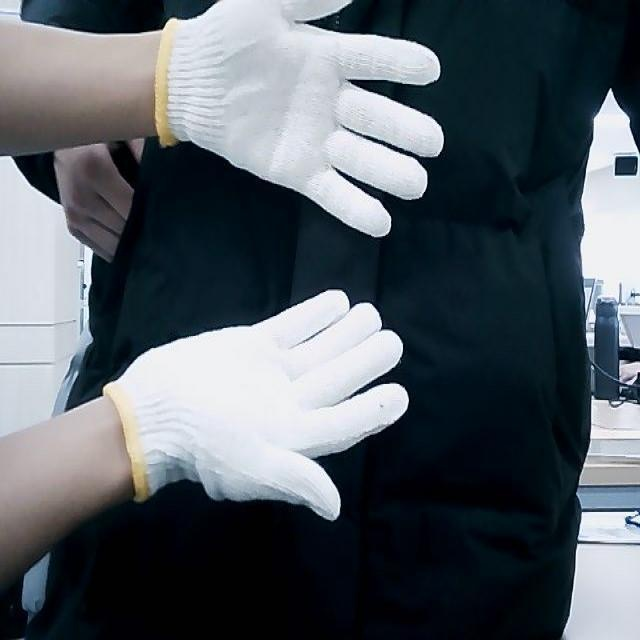Guantes: (104, 288, 409, 522), (154, 0, 445, 239)
